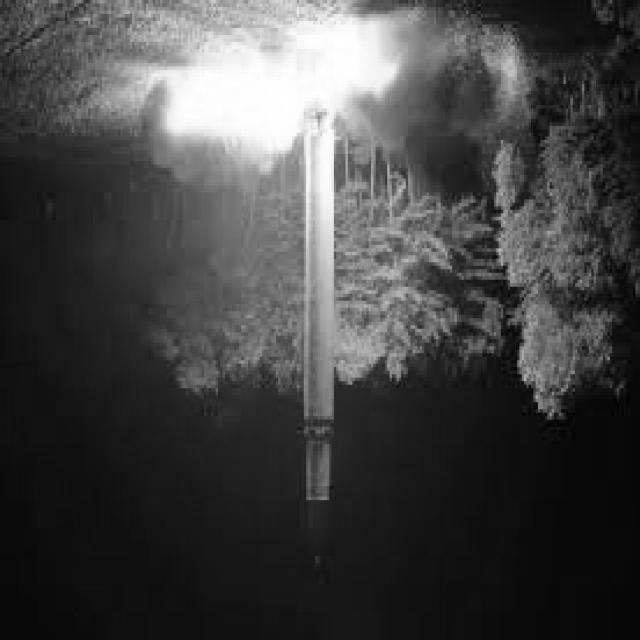missile: (301, 96, 341, 525)
